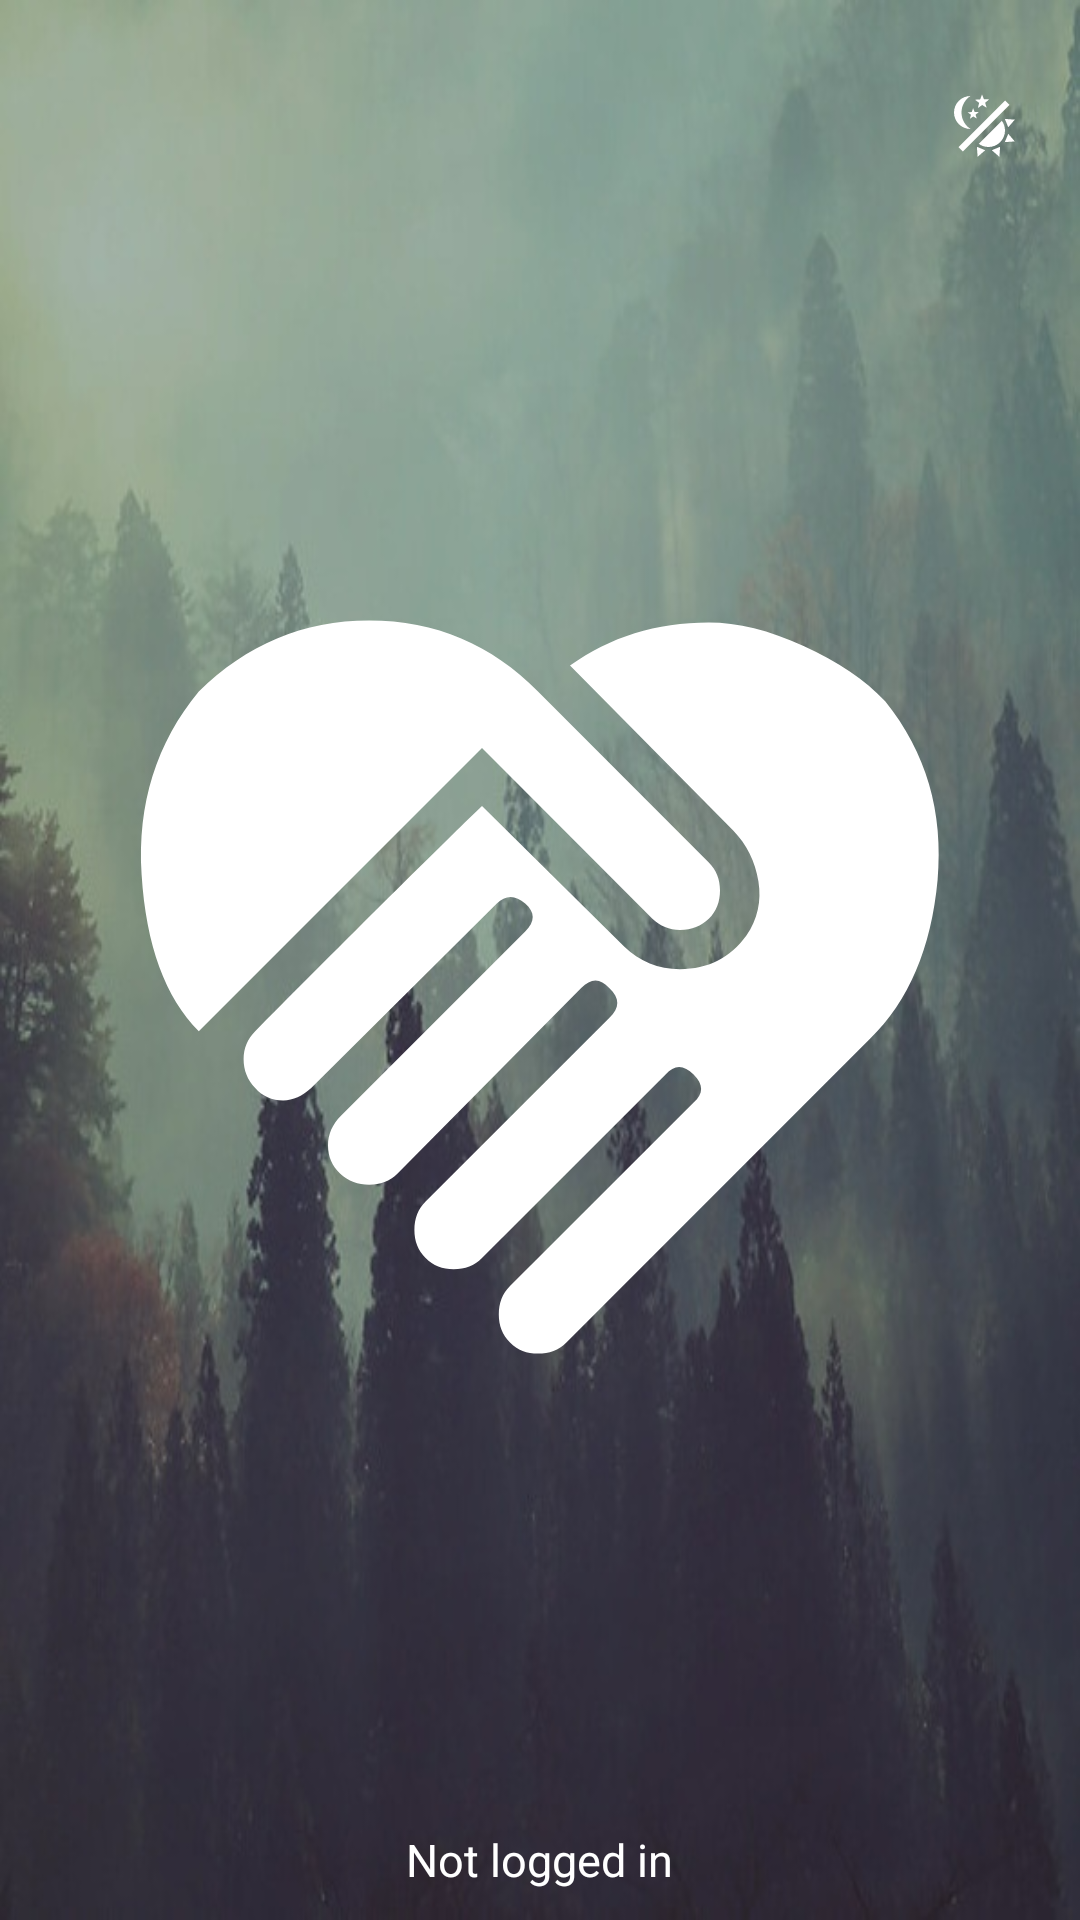

Icon bounding boxes for this 1080 × 1920 phone screenshot, format bbox=[x1, y1, x2, y2]:
theme: bbox=[954, 95, 1020, 157]
